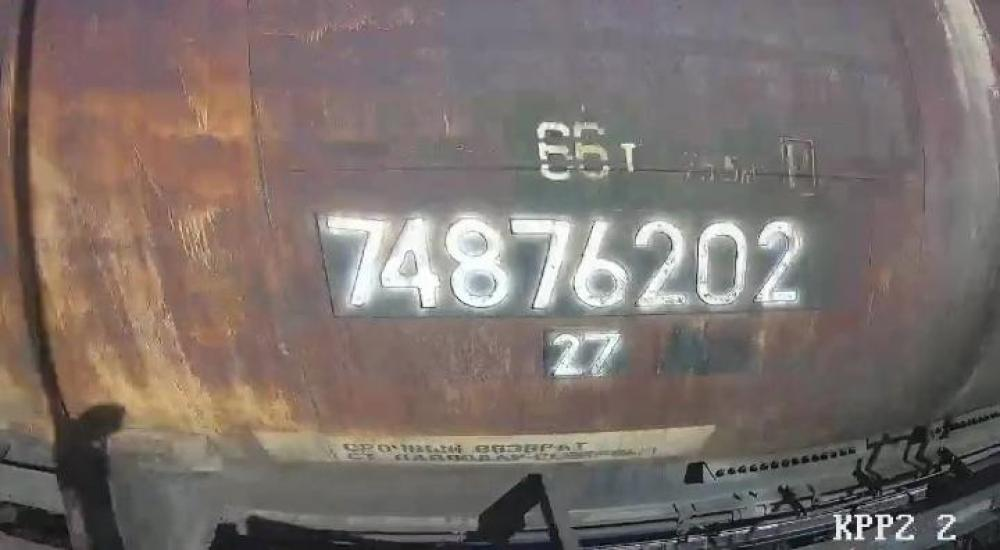Wagon-number: (322, 208, 807, 312)
